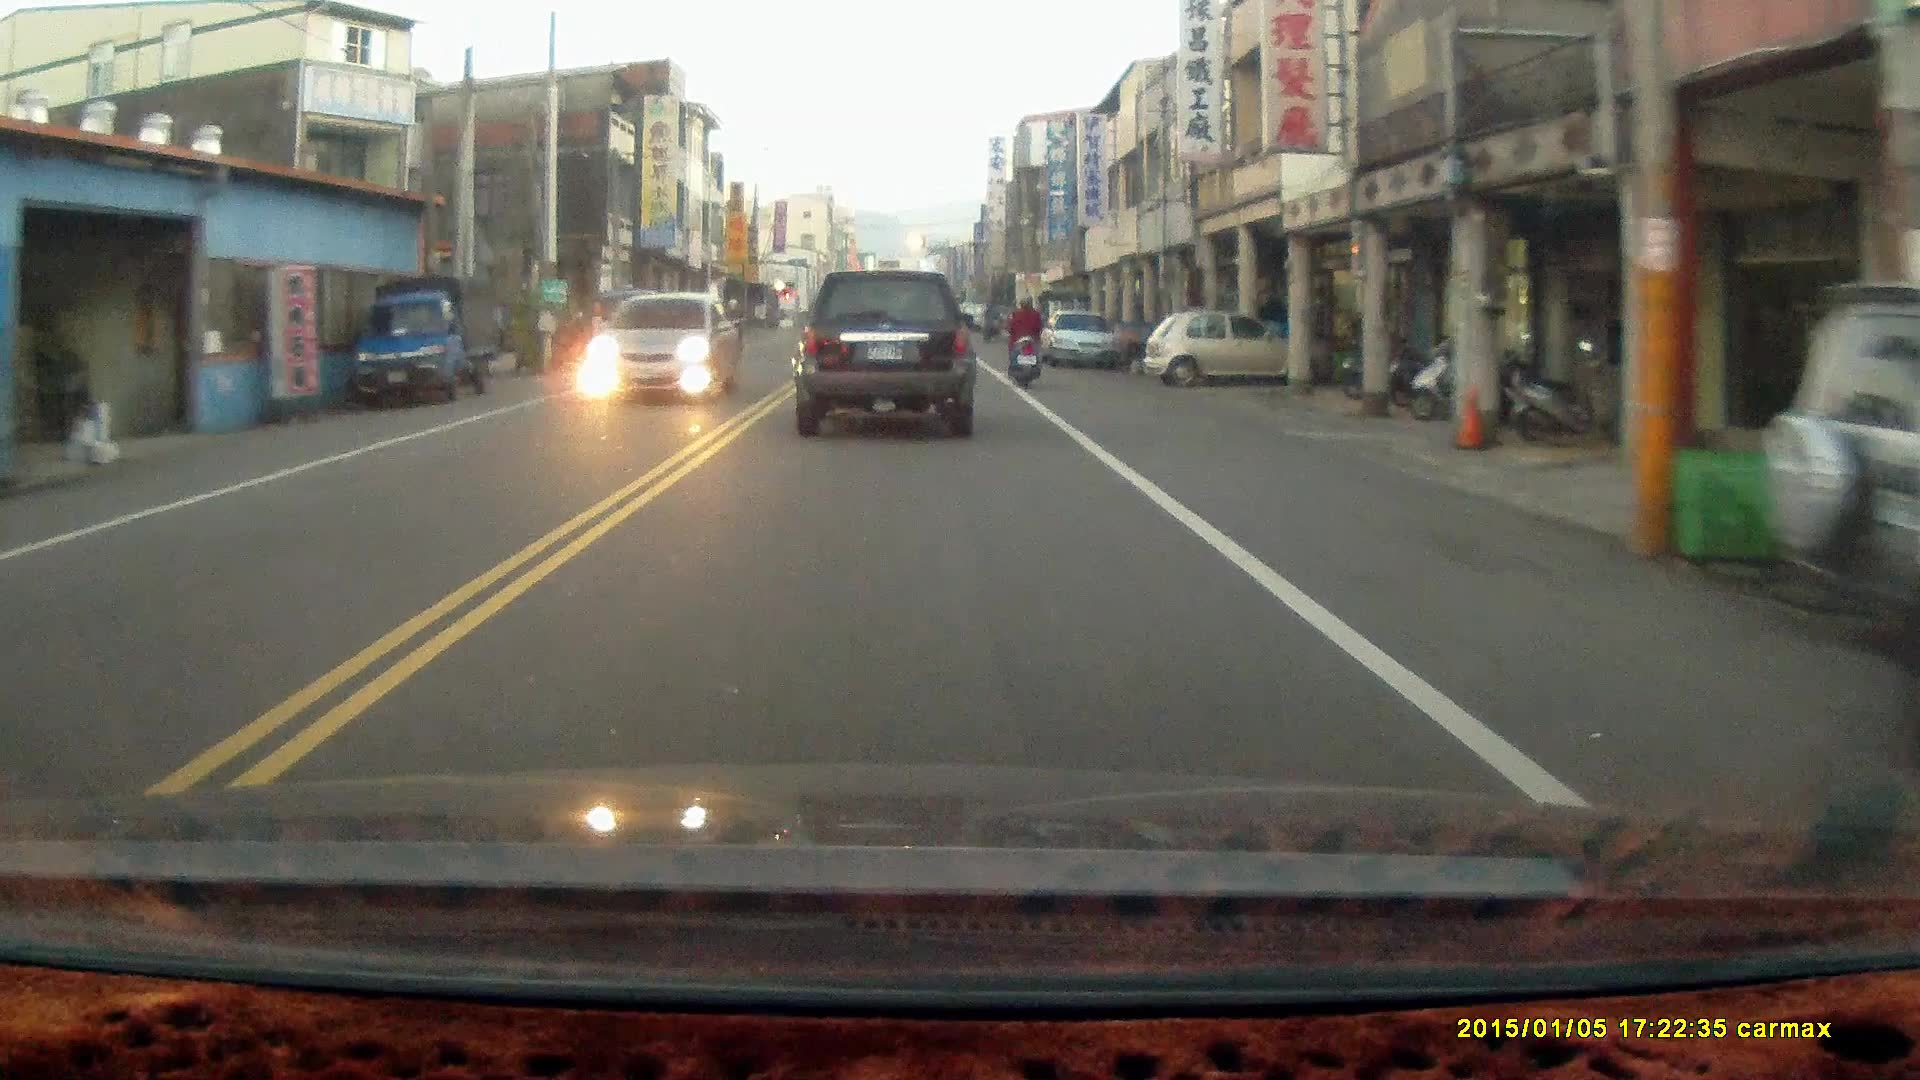pedestrian: (585, 298, 606, 362)
rider: (1005, 291, 1042, 386)
vehicle: (1754, 274, 1919, 665), (790, 263, 978, 434), (355, 269, 509, 408), (589, 290, 744, 408), (1147, 305, 1312, 386), (1043, 308, 1127, 368)
